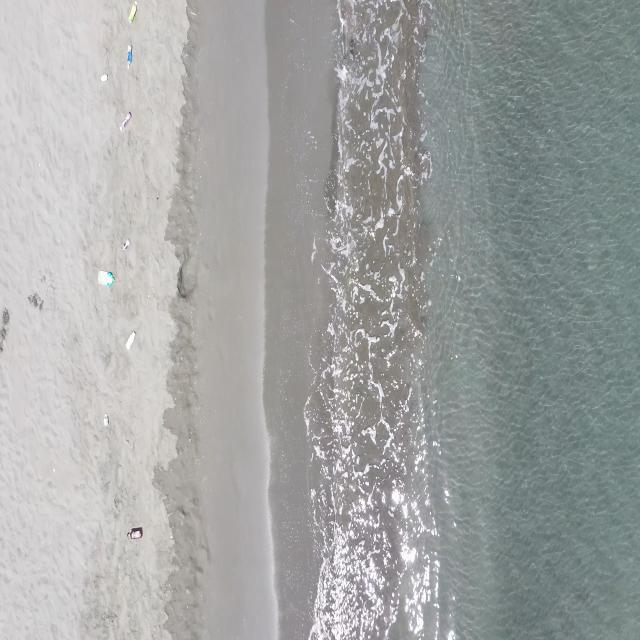plastic-bottle: (96, 270, 115, 288), (119, 111, 132, 132), (126, 525, 143, 540), (128, 0, 138, 25), (126, 330, 136, 351), (126, 44, 132, 67), (99, 73, 109, 83), (122, 240, 131, 251), (103, 412, 110, 426)
